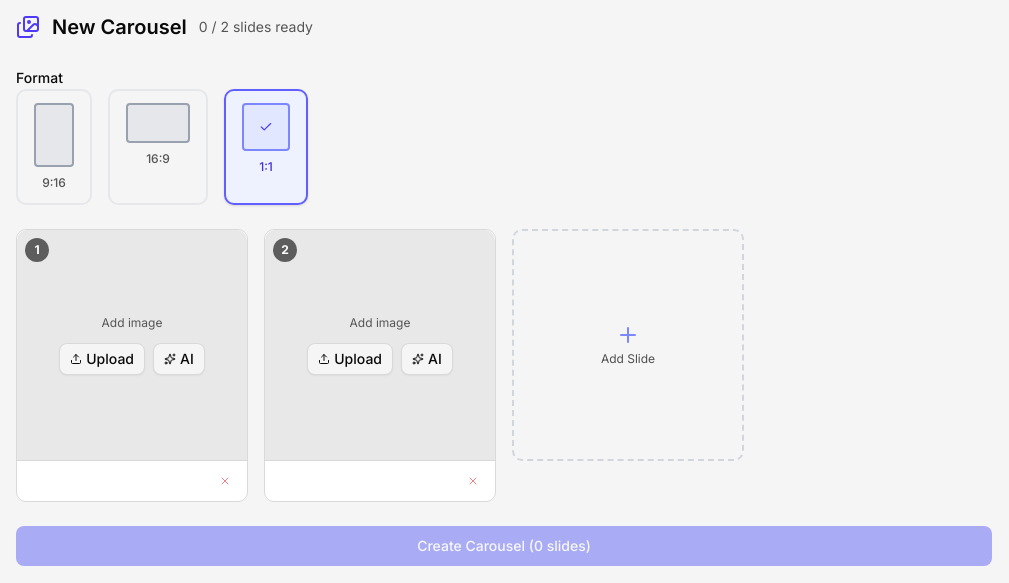
Test case: CreateCarouselPage › adds a new slide when Add Slide is clicked
What coordinates should you click on to do the following:
click the button "Add Slide"
I would click on:
 (628, 345)
Its box is [512,229,744,461].
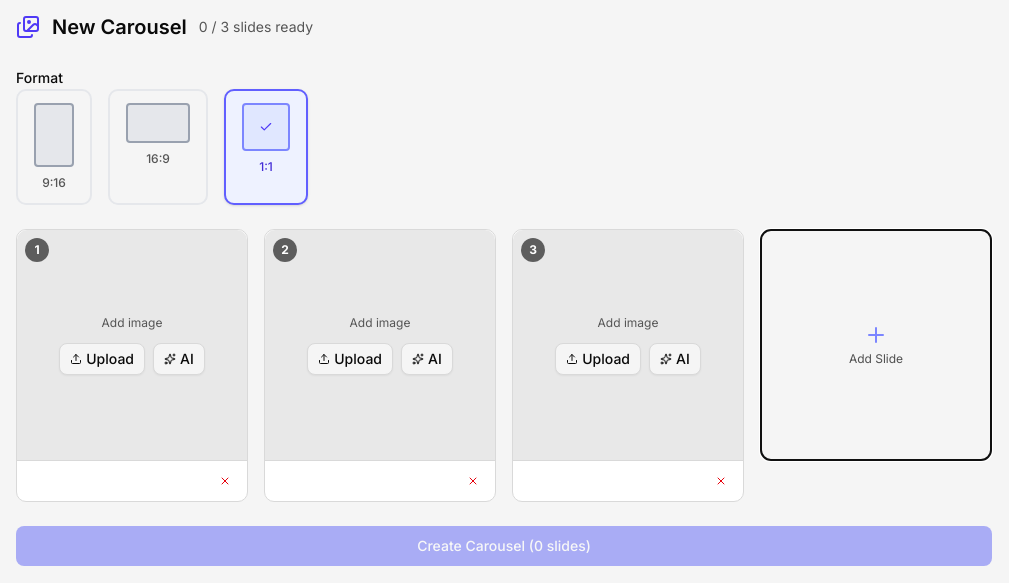
Expected: the text "Add image" is shown 3 times, [102,315,162,331]; [350,315,410,331]; [598,315,658,331]
